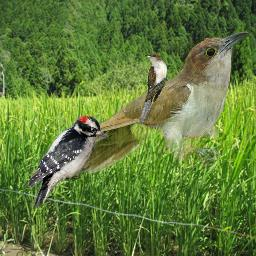Cuckoo: (29, 30, 250, 179), (139, 53, 168, 125)
Woodpecker: (28, 116, 111, 211)
